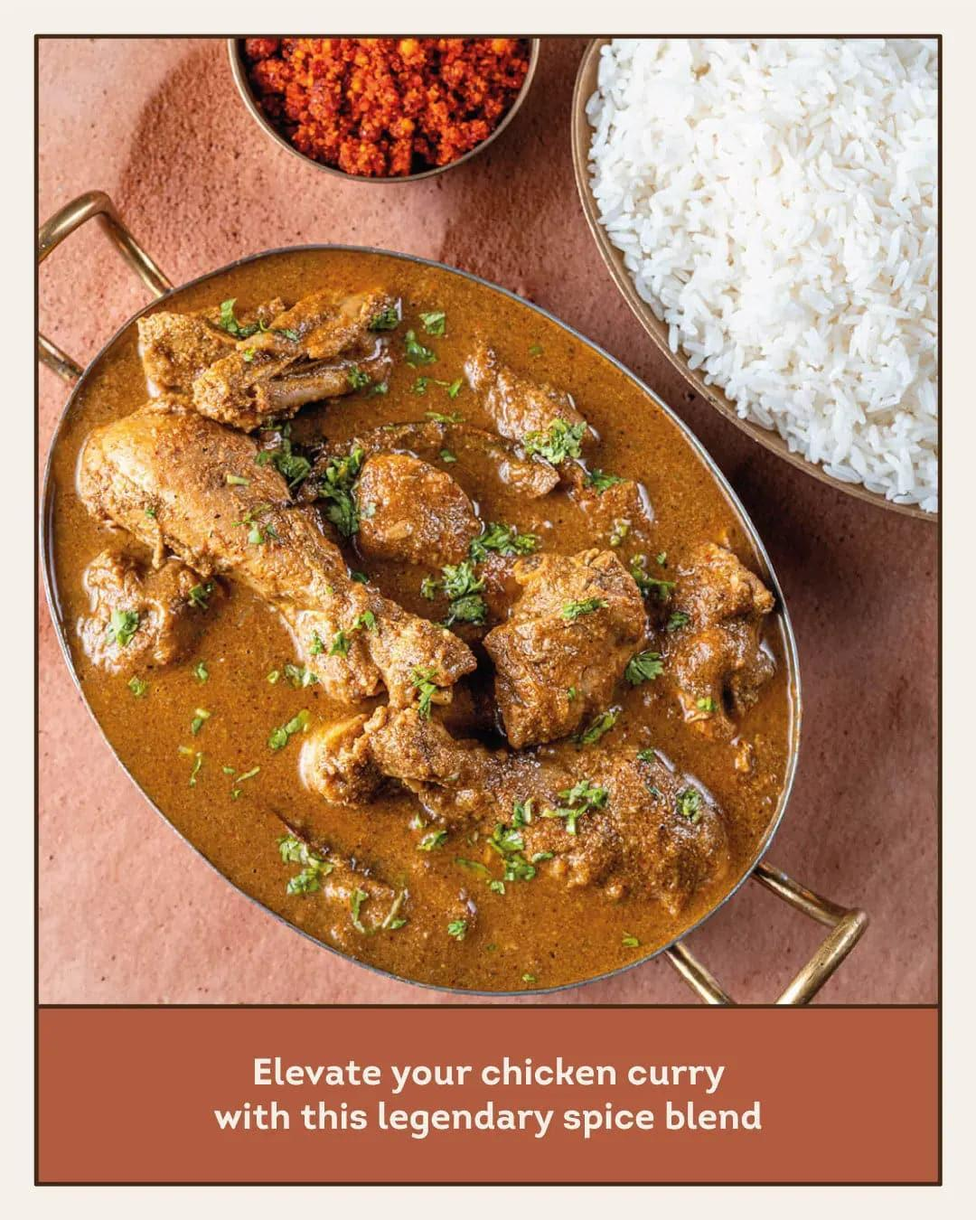chicken: (42, 288, 753, 973)
rice: (587, 41, 976, 502)
